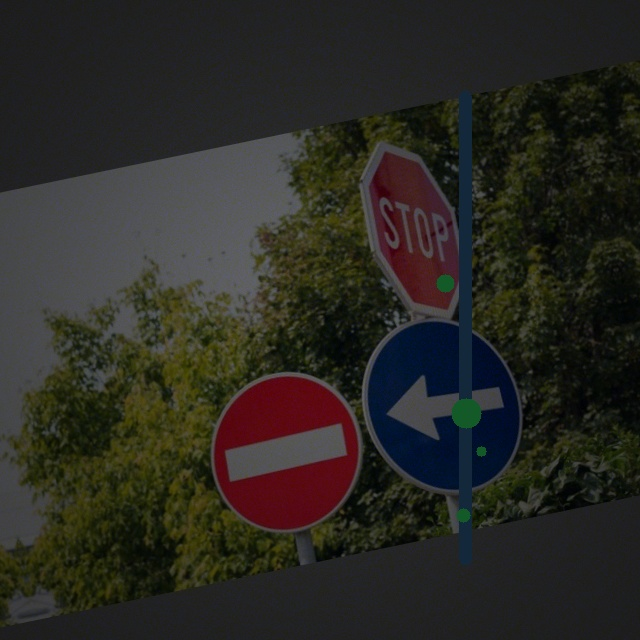Compulsory_Turn_Left: (348, 298, 539, 512)
